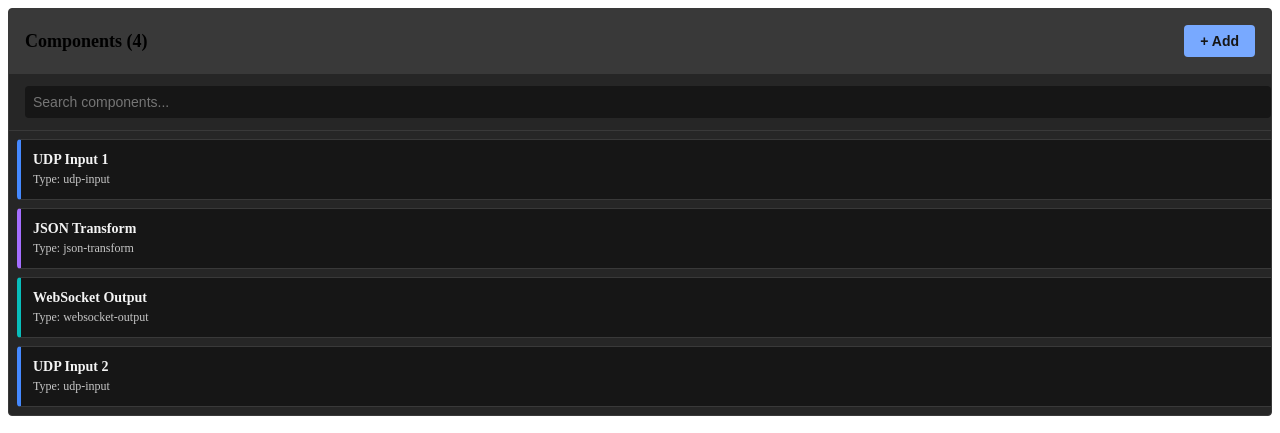
Test: ComponentList › search and filter › should filter nodes by name
Type "UDP" into the field with placeholder "Search components..." at (648, 102), box [25,86,1271,118]
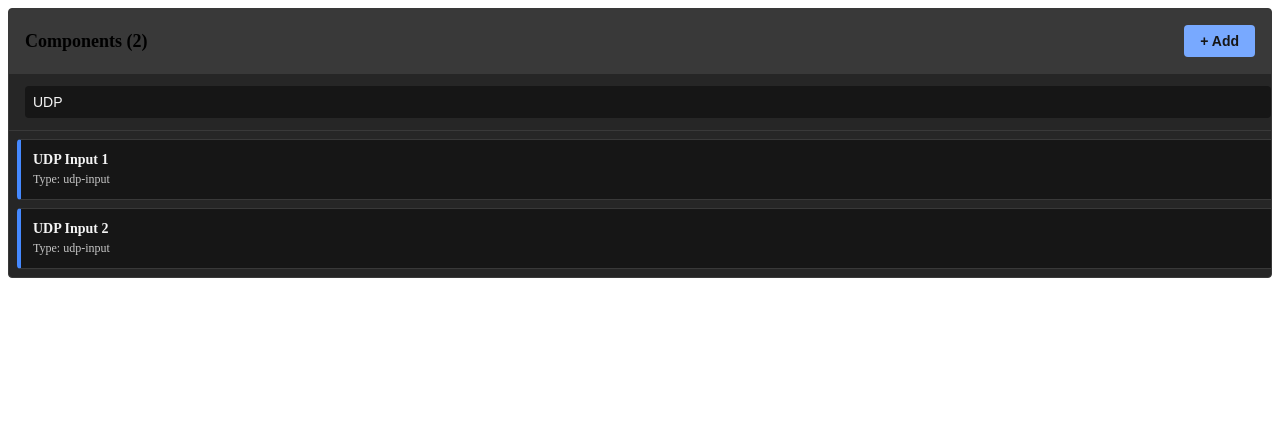
Expected: the heading "UDP Input 1" is shown, [33,152,108,168]
Expected: the button "JSON Transform" is gone
Expected: the button "WebSocket Output" is gone
